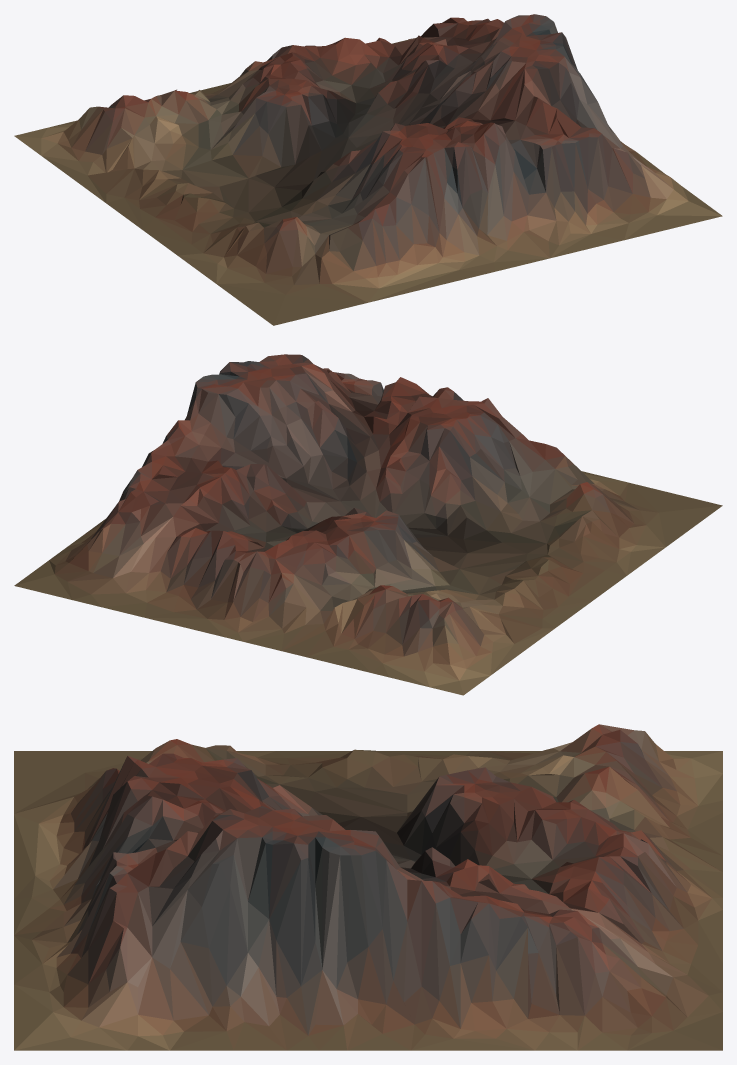
Rendered from Dry-Rocky_A.fbx.
The picture shows the model from 3 angles, top to bottom: view 1: azimuth 30°, elevation 25°; view 2: azimuth 150°, elevation 25°; view 3: azimuth 270°, elevation 25°; orthographic projection. The views are drawn at different scales.
Visible parts, largest first — view 1: Dry-Rocky_A; view 2: Dry-Rocky_A; view 3: Dry-Rocky_A.
Boxes of the visible parts, bbox=[...] form: Dry-Rocky_A: bbox=[14, 14, 722, 325]; Dry-Rocky_A: bbox=[14, 354, 722, 695]; Dry-Rocky_A: bbox=[14, 724, 722, 1050].
Size of the model in its own units: 10000 by 2619 by 10000.
